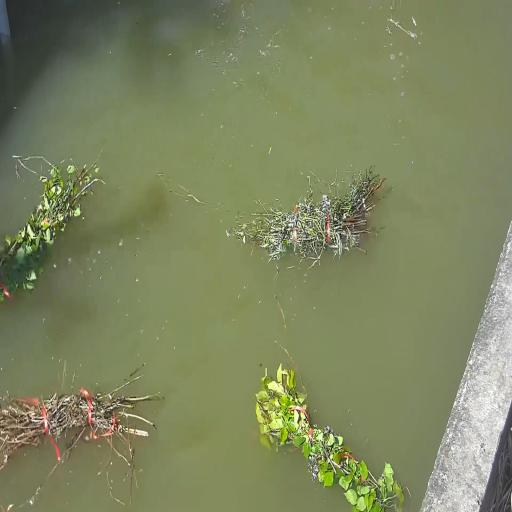twig: (246, 367, 398, 512), (0, 368, 148, 473), (256, 164, 391, 260), (0, 163, 87, 308)
